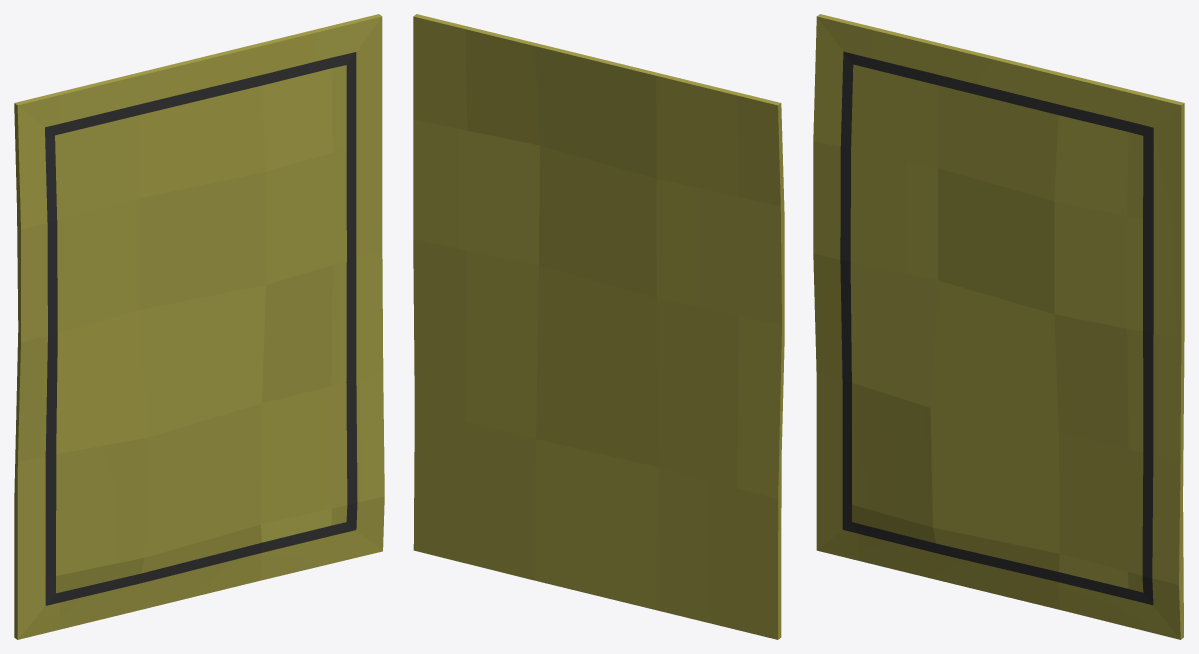
The model's file is Int_WallPaper01_2.fbx.
3 renders of one model, left to right at view 1: azimuth 30°, elevation 25°; view 2: azimuth 150°, elevation 25°; view 3: azimuth 330°, elevation 25°, orthographic.
Visible parts, largest first — view 1: Int_WallPaper01_2; view 2: Int_WallPaper01_2; view 3: Int_WallPaper01_2.
Boxes of the visible parts, x1,y1,x2,y2 form: Int_WallPaper01_2: (14,14,384,639); Int_WallPaper01_2: (413,14,784,639); Int_WallPaper01_2: (813,14,1184,639).
Size of what is drawn, in the model's own units: 39 by 2.04 by 54.6.
